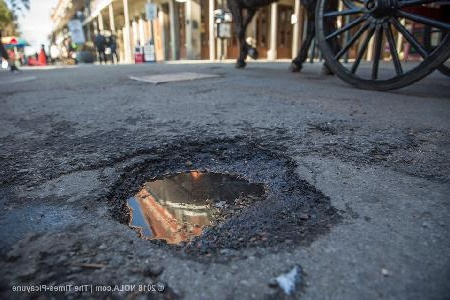pothole: (102, 131, 347, 262)
